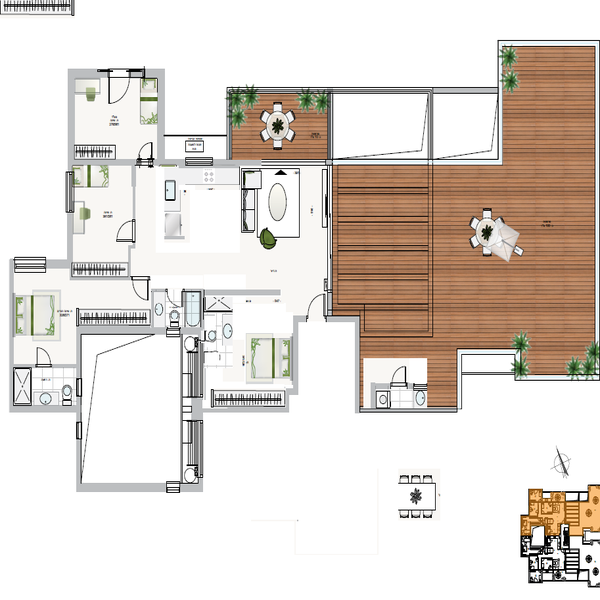door: (102, 72, 134, 107), (110, 221, 144, 248), (304, 291, 330, 323), (125, 273, 153, 302), (159, 287, 186, 315), (32, 344, 54, 373), (389, 366, 414, 391), (135, 141, 155, 170)
room: (65, 165, 331, 295), (77, 324, 204, 487), (195, 289, 302, 419), (5, 257, 85, 411), (64, 64, 177, 169)
wall: (154, 63, 171, 172), (6, 260, 17, 414), (176, 340, 186, 491), (75, 329, 175, 343), (75, 484, 170, 493), (354, 314, 362, 413), (69, 70, 77, 168), (200, 408, 291, 416), (202, 290, 289, 298), (427, 86, 503, 94), (71, 334, 83, 379), (68, 214, 78, 266), (8, 405, 73, 413), (291, 318, 297, 391), (214, 158, 267, 166), (75, 439, 85, 481), (324, 315, 361, 326), (190, 395, 201, 422), (43, 259, 70, 269)
window: (61, 167, 78, 217), (179, 154, 214, 171), (17, 258, 44, 273)
